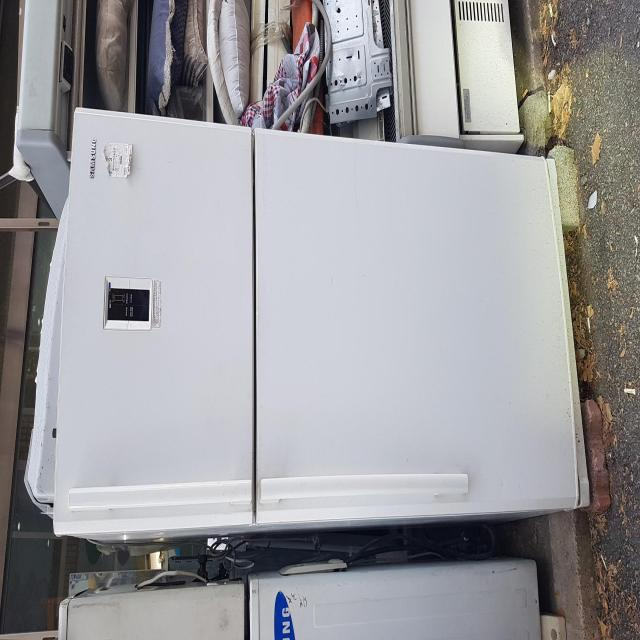refrigerator: (47, 104, 590, 549)
